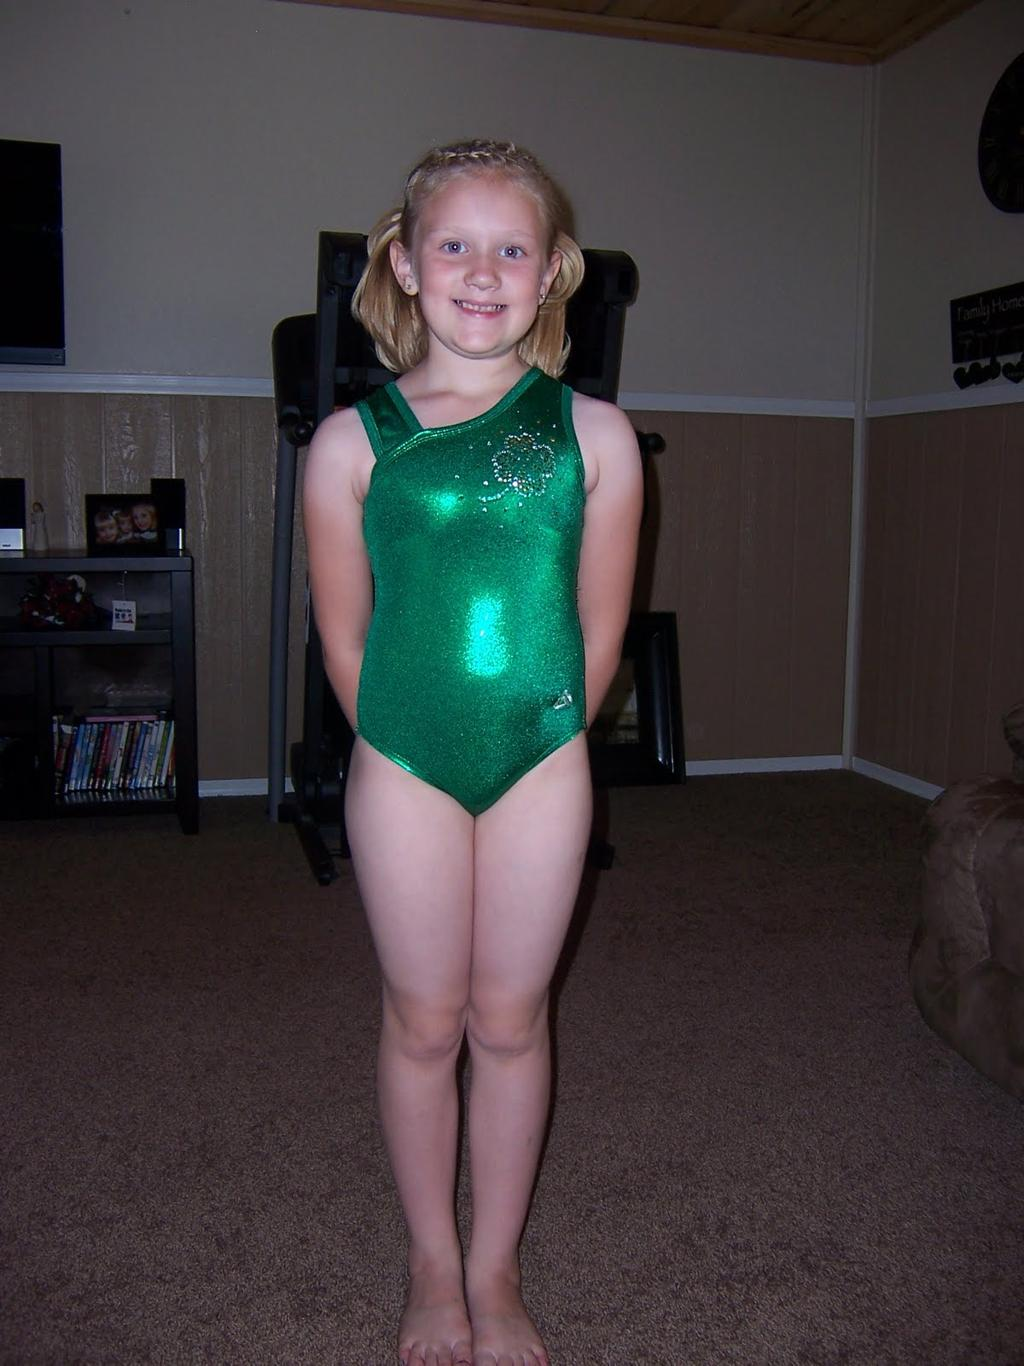face: (416, 168, 541, 357)
